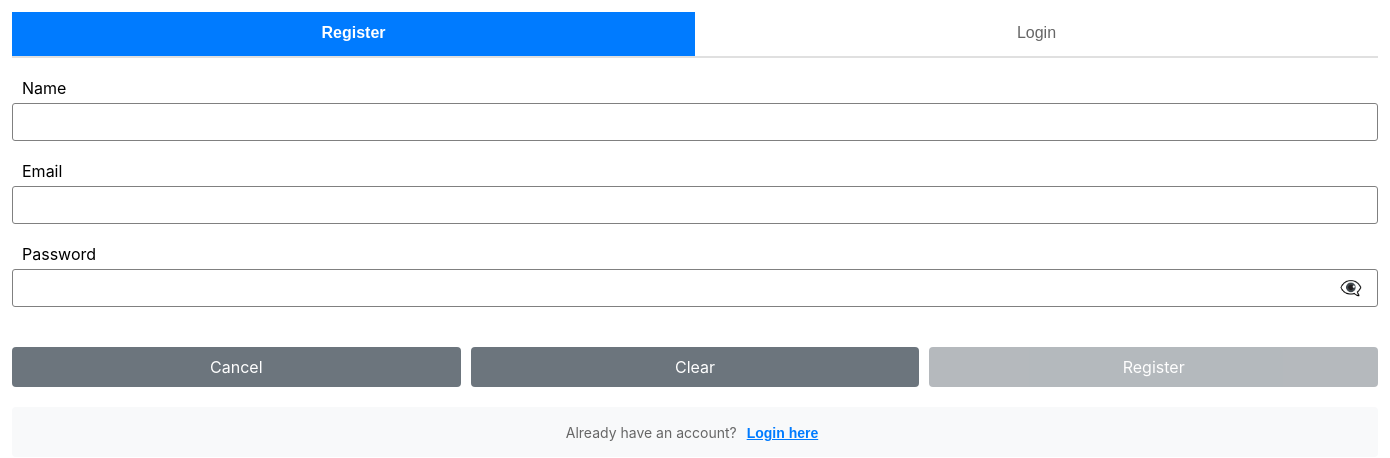
Test: LoginRegister › shows email validation error for invalid email
Expected: the 2nd button "Register" is disabled, [929, 347, 1378, 387]
Type "invalid-email" into the field labelled "Email" at (695, 205), box [12, 186, 1378, 224]
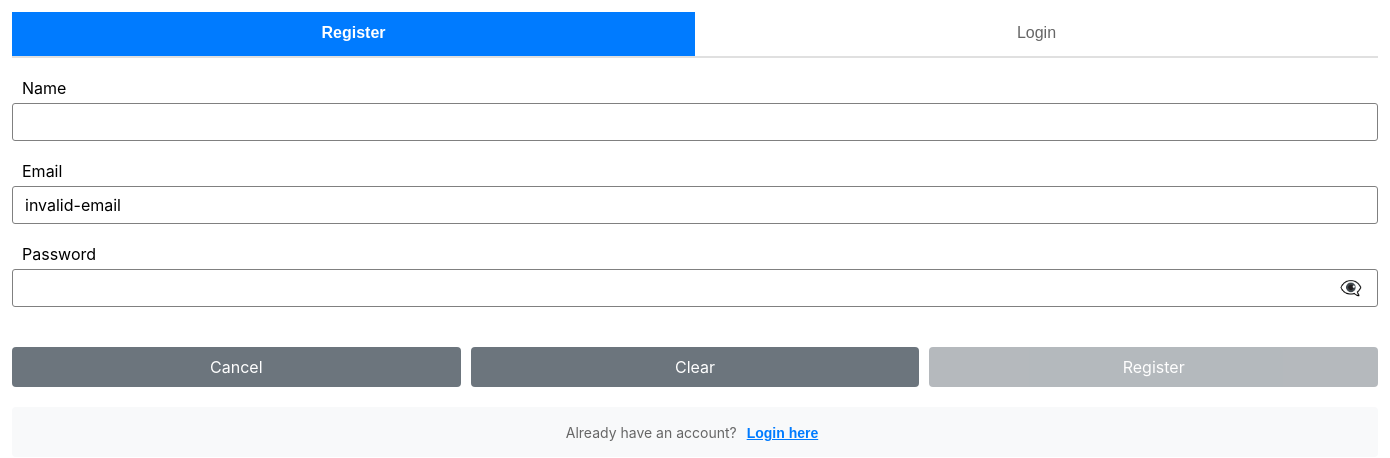
Expected: the 2nd button "Register" is disabled, [929, 347, 1378, 387]
# Trigger blur to show validation error
Leave the field labelled "Email", box [12, 186, 1378, 224]
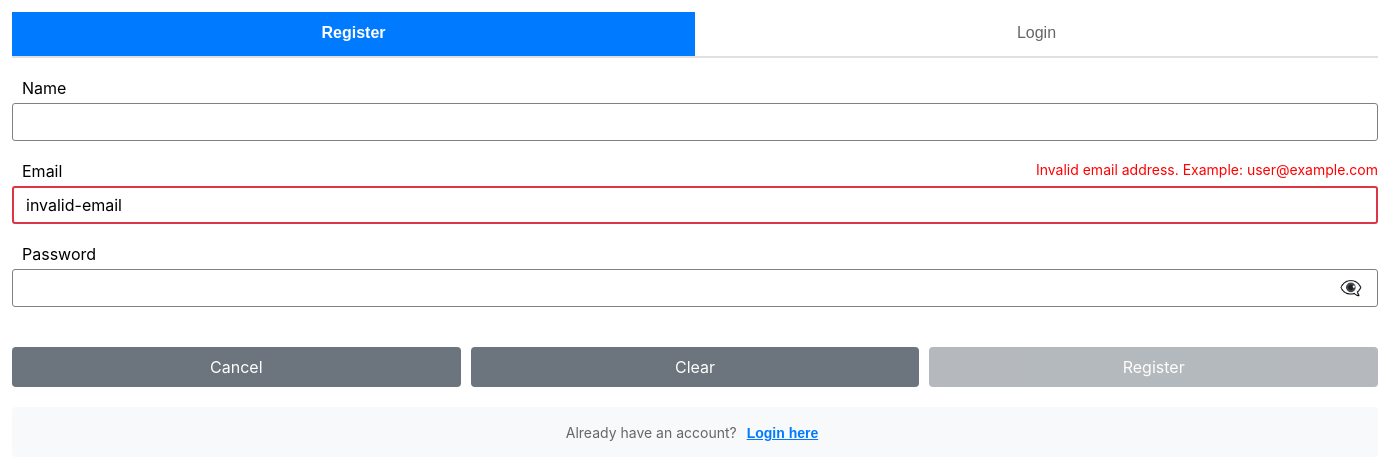
Expected: the text "Invalid email address. Example: user@example.com" is shown, [1036, 161, 1378, 181]
